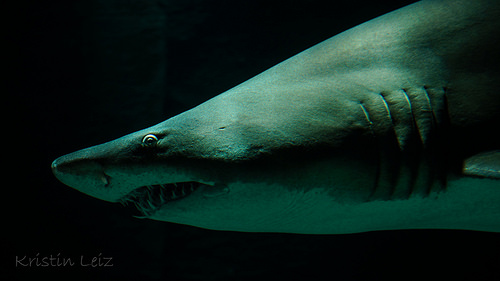shark: (23, 3, 494, 247)
